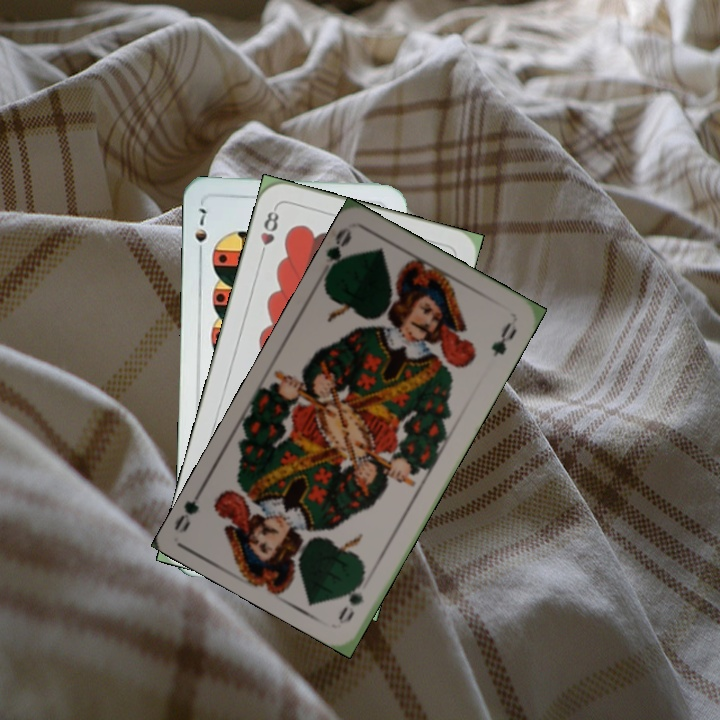GO: (320, 224, 354, 281), (340, 568, 368, 626)
H8: (256, 203, 282, 261)
S7: (191, 204, 210, 260)
